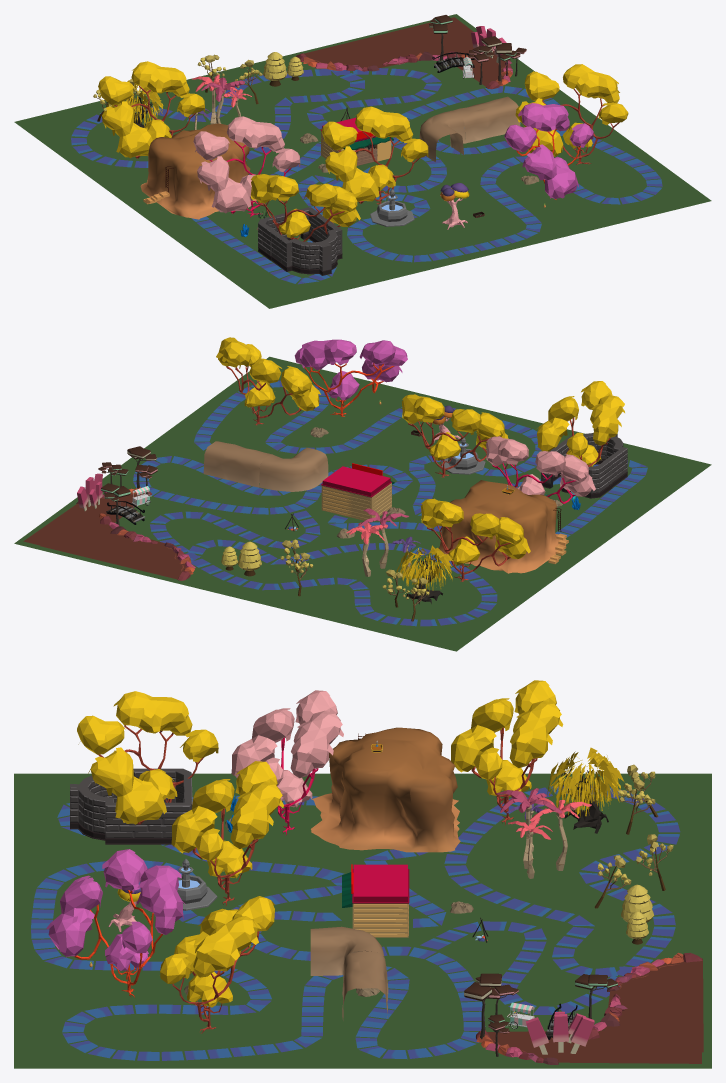
The model's file is all.glb.
3 renders of one model, top to bottom at view 1: azimuth 30°, elevation 25°; view 2: azimuth 150°, elevation 25°; view 3: azimuth 270°, elevation 25°, orthographic. The views are drawn at different scales.
Parts seen in each view (by area): view 1: Plane, camino, Mountain2, Tree_Forest_Turquoise_03.002, Camino2, Tree_Forest_Turquoise_03.001, Tree_Forest_Pink_03, WaterPatchCurve_02, Tree_Forest_Blue_03, Tree_Forest_Turquoise_03, Tree_Forest_Turquoise_03.003, Mines Tunel 8M (+15 smaller); view 2: Plane, camino, Camino2, Mountain2, WaterPatchCurve_02, Tree_Forest_Blue_03, Tree_Forest_Turquoise_03.003, Tree_Forest_Turquoise_03.001, Tree_Forest_Turquoise_03, Tree_Forest_Turquoise_03.002, Tree_Forest_Pink_03, Cube.004 (+10 smaller); view 3: Plane, camino, Mountain2, Camino2, Tree_Forest_Turquoise_03.003, Tree_Forest_Blue_03, Tree_Forest_Turquoise_03.002, Tree_Forest_Turquoise_03.001, WaterPatchCurve_02, Tree_Forest_Turquoise_03, Tree_Forest_Pink_03, WaterPatchCurve_02.001 (+18 smaller).
Part boxes in pixels (left/top/right/bottom): Plane: left=14, top=14, right=711, bottom=308; camino: left=191, top=86, right=662, bottom=284; Mountain2: left=140, top=123, right=256, bottom=219; Tree_Forest_Turquoise_03.002: left=321, top=106, right=428, bottom=204; Camino2: left=71, top=68, right=441, bottom=167; Tree_Forest_Turquoise_03.001: left=98, top=61, right=204, bottom=158; Tree_Forest_Pink_03: left=193, top=116, right=300, bottom=217; WaterPatchCurve_02: left=295, top=22, right=471, bottom=71; Tree_Forest_Blue_03: left=504, top=103, right=593, bottom=199; Tree_Forest_Turquoise_03: left=515, top=64, right=628, bottom=164; Tree_Forest_Turquoise_03.003: left=251, top=174, right=360, bottom=241; Mines Tunel 8M: left=453, top=96, right=520, bottom=143; Plane: left=14, top=356, right=711, bottom=651; camino: left=133, top=380, right=647, bottom=537; Camino2: left=150, top=510, right=497, bottom=626; Mountain2: left=438, top=480, right=565, bottom=573; WaterPatchCurve_02: left=40, top=519, right=195, bottom=580; Tree_Forest_Blue_03: left=294, top=339, right=407, bottom=416; Tree_Forest_Turquoise_03.003: left=536, top=381, right=624, bottom=466; Tree_Forest_Turquoise_03.001: left=421, top=498, right=530, bottom=581; Tree_Forest_Turquoise_03: left=216, top=337, right=320, bottom=425; Tree_Forest_Turquoise_03.002: left=402, top=394, right=508, bottom=477; Tree_Forest_Pink_03: left=486, top=436, right=595, bottom=503; Cube.004: left=321, top=463, right=394, bottom=522; Plane: left=14, top=773, right=711, bottom=1068; camino: left=31, top=796, right=485, bottom=1060; Mountain2: left=311, top=727, right=460, bottom=852; Camino2: left=420, top=785, right=680, bottom=1014; Tree_Forest_Turquoise_03.003: left=77, top=691, right=218, bottom=824; Tree_Forest_Blue_03: left=46, top=849, right=185, bottom=997; Tree_Forest_Turquoise_03.002: left=171, top=761, right=283, bottom=906; Tree_Forest_Turquoise_03.001: left=451, top=680, right=563, bottom=825; WaterPatchCurve_02: left=602, top=952, right=703, bottom=1052; Tree_Forest_Turquoise_03: left=160, top=896, right=274, bottom=1033; Tree_Forest_Pink_03: left=231, top=690, right=343, bottom=835; WaterPatchCurve_02.001: left=476, top=1029, right=702, bottom=1064.
Size of what is drawn, in the model's own units: 64 by 12.19 by 64.
Materials: 22 (21 with a texture image).
